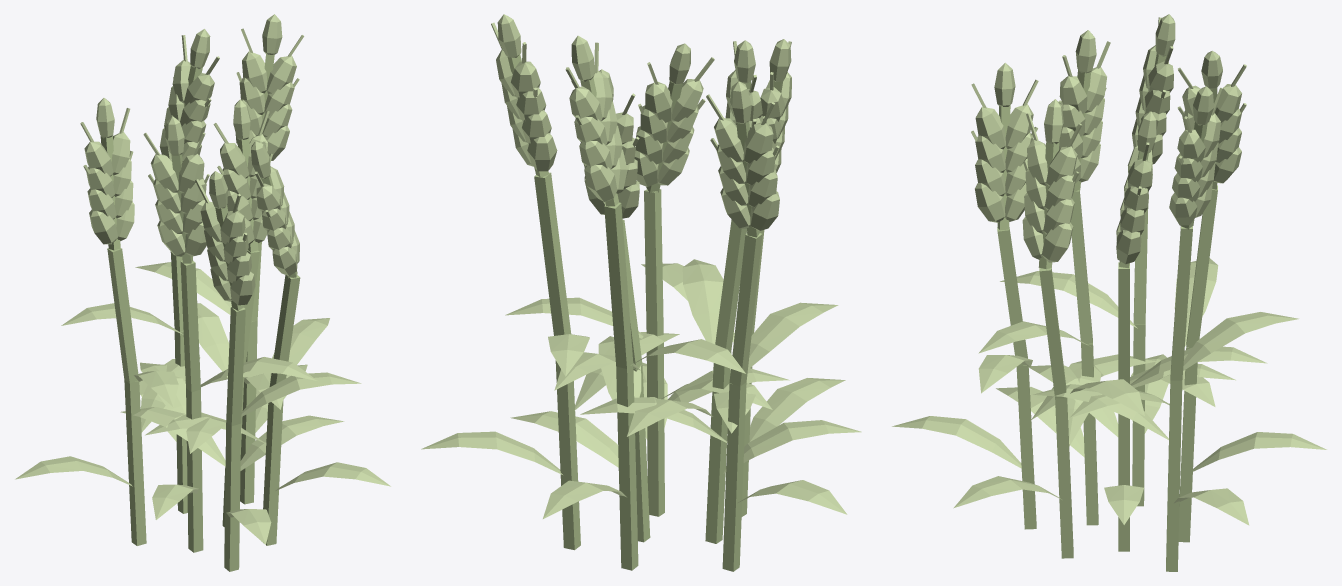
File: crafted-crop-wheat-2.glb
3 renders of one model, left to right at view 1: azimuth 30°, elevation 25°; view 2: azimuth 150°, elevation 25°; view 3: azimuth 270°, elevation 25°, orthographic. The views are drawn at different scales.
Parts seen in each view (by area): view 1: stalk-4-0, stalk-6-0, stalk-4-1, stalk-1-1, stalk-3-0, stalk-1-0, stalk-6-1, stalk-5-0, stalk-3-1, blade-20, blade-2, blade (+54 smaller); view 2: stalk-2-0, stalk-4-0, stalk-2-1, stalk-5-1, stalk-1-0, stalk-5-0, stalk-3-1, stalk-4-1, stalk-3-0, blade-5, blade-18, stalk-1-1 (+50 smaller); view 3: stalk-5-0, stalk-2-0, stalk-3-0, stalk-6-0, stalk-5-1, blade-17, stalk-2-1, blade-18, stalk-1-1, stalk-1-0, stalk-3-1, blade-6 (+53 smaller).
Part boxes in pixels (box(x1,y1,x2,y2)): stalk-4-0: box(124, 380, 146, 545); stalk-6-0: box(224, 422, 240, 571); stalk-4-1: box(107, 248, 138, 383); stalk-1-1: box(180, 260, 200, 392); stalk-3-0: box(263, 400, 283, 545); stalk-1-0: box(186, 388, 203, 552); stalk-6-1: box(226, 306, 245, 425); stalk-5-0: box(240, 321, 257, 504); stalk-3-1: box(269, 275, 300, 386); blade-20: box(241, 372, 361, 416); blade-2: box(197, 303, 229, 377); blade: box(240, 415, 344, 470); stalk-2-0: box(616, 364, 638, 570); stalk-4-0: box(722, 382, 746, 571); stalk-2-1: box(604, 202, 633, 368); stalk-5-1: box(534, 172, 571, 335); stalk-1-0: box(705, 351, 731, 543); stalk-5-0: box(555, 360, 580, 550); stalk-3-1: box(644, 189, 663, 336); stalk-4-1: box(729, 233, 762, 386); stalk-3-0: box(646, 342, 664, 516); blade-5: box(682, 259, 723, 344); blade-18: box(749, 378, 845, 441); stalk-1-1: box(715, 219, 746, 351); stalk-5-0: box(1166, 375, 1182, 571); stalk-2-0: box(1178, 347, 1197, 542); stalk-3-0: box(1055, 398, 1073, 558); stalk-6-0: box(1016, 365, 1036, 529); stalk-5-1: box(1170, 226, 1192, 380); blade-17: box(1183, 312, 1298, 370); stalk-2-1: box(1186, 185, 1217, 347); blade-18: box(892, 416, 1021, 468); stalk-1-1: box(1070, 190, 1092, 344); stalk-1-0: box(1081, 343, 1098, 525); stalk-3-1: box(1039, 267, 1066, 398); blade-6: box(1193, 432, 1326, 471).
Size of the model in its own units: 0.6665 by 0.8906 by 0.6954.
